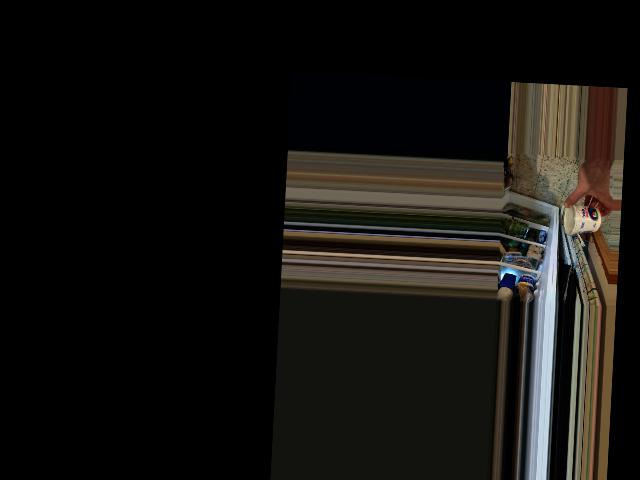cotage: (562, 203, 603, 235)
